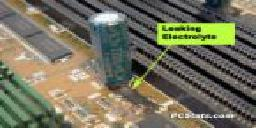Electrolytic-Capacitor: (85, 10, 134, 86)
